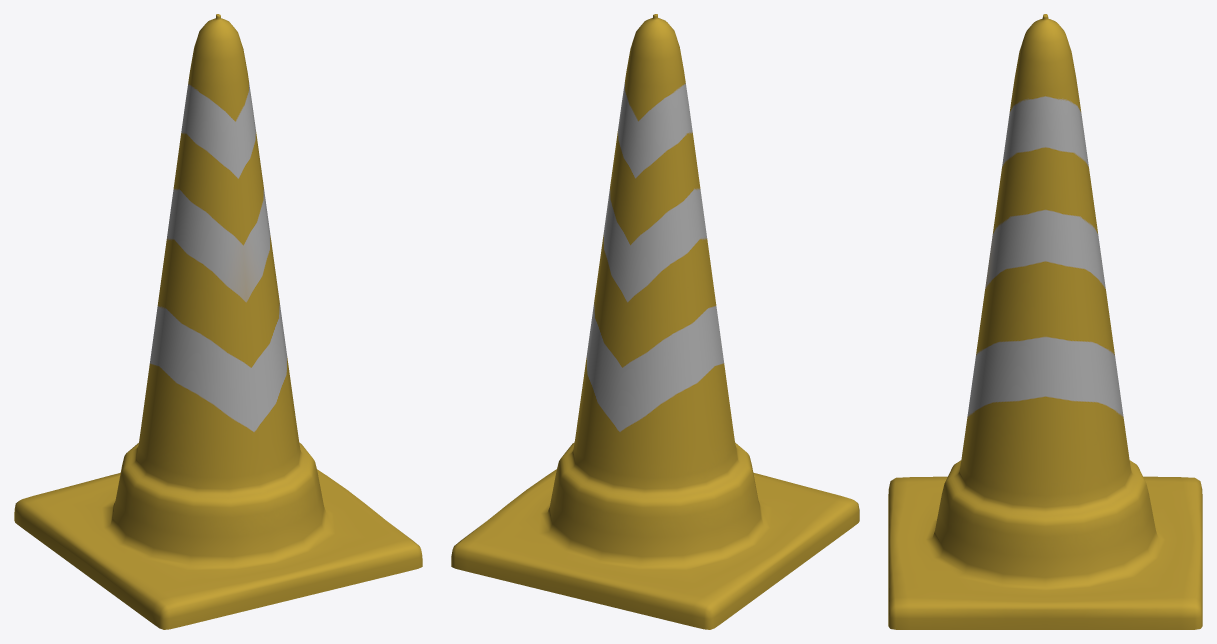
Rendered from ColorCone_Scotch_Yellow_NoWeight.fbx.
3 views of the same model, side by side, from view 1: azimuth 30°, elevation 25°; view 2: azimuth 150°, elevation 25°; view 3: azimuth 270°, elevation 25° (orthographic). The views are drawn at different scales.
Parts seen in each view (by area): view 1: ColorCone_Scotch_Yellow_NoWeight; view 2: ColorCone_Scotch_Yellow_NoWeight; view 3: ColorCone_Scotch_Yellow_NoWeight.
Boxes of the visible parts, x1,y1,x2,y2 form: ColorCone_Scotch_Yellow_NoWeight: (14,14,422,629); ColorCone_Scotch_Yellow_NoWeight: (451,14,859,629); ColorCone_Scotch_Yellow_NoWeight: (888,14,1202,629).
Size of the model in its own units: 38 by 38 by 73.14.
1 material, 1 textured.
